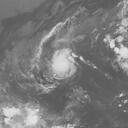cyclone: (46, 48, 79, 80)
